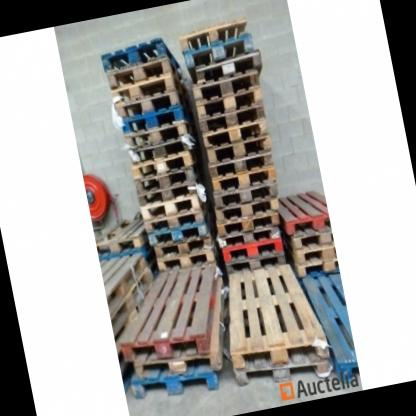BoxFace: (228, 265, 328, 369), (120, 263, 221, 365), (99, 40, 187, 74), (192, 67, 263, 106), (182, 33, 254, 71), (276, 189, 331, 235), (132, 368, 218, 397), (198, 104, 265, 135), (129, 154, 200, 179)
